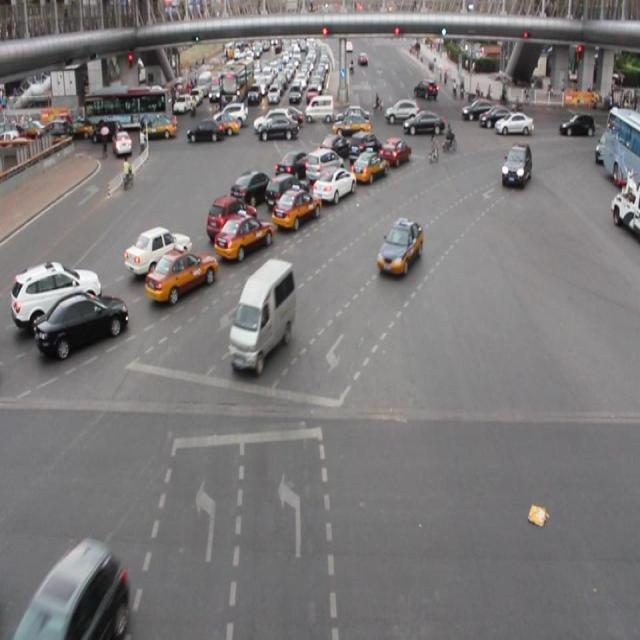car: (21, 535, 123, 640), (11, 260, 101, 324), (37, 292, 127, 354), (145, 249, 216, 300), (124, 224, 190, 276), (214, 212, 272, 259), (378, 217, 422, 276), (206, 194, 256, 240), (272, 187, 320, 230), (312, 168, 354, 207), (266, 172, 308, 210), (501, 142, 531, 187), (273, 149, 310, 185), (231, 172, 271, 204), (351, 148, 386, 184), (348, 129, 381, 164), (380, 137, 410, 169), (317, 133, 349, 163)
truck: (229, 260, 293, 370), (304, 146, 343, 184)
